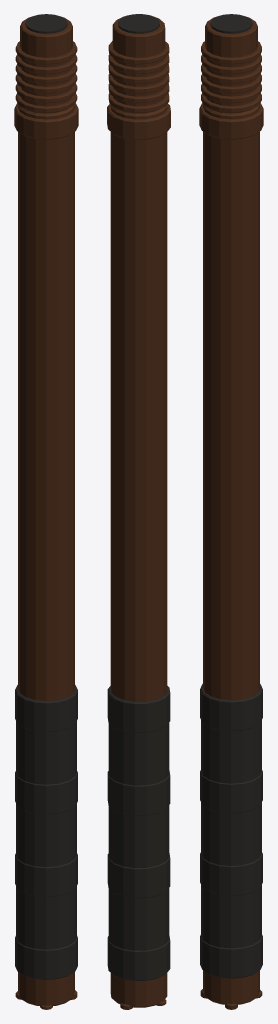
File: pipe.glb
The picture shows the model from 3 angles, left to right: view 1: azimuth 90°, elevation 25°; view 2: azimuth 150°, elevation 25°; view 3: azimuth 270°, elevation 25°; orthographic projection.
Parts seen in each view (by area): view 1: pipe; view 2: pipe; view 3: pipe.
Part boxes in pixels (x1=…): pipe: x1=14, y1=14, x2=78, y2=1009; pipe: x1=107, y1=14, x2=170, y2=1009; pipe: x1=199, y1=14, x2=263, y2=1009.
Bounding box in the file's own units: 0.036 × 0.6032 × 0.036.
